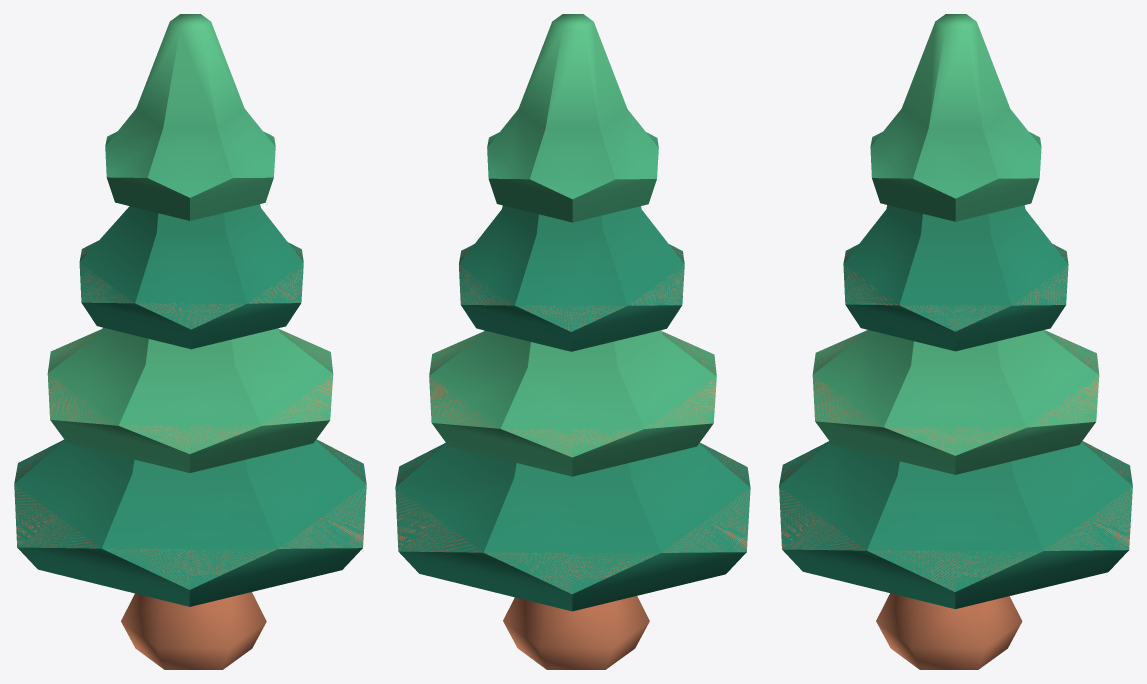
Rendered from pine.001_lev3.glb.
3 views of the same model, side by side, from view 1: azimuth 30°, elevation 25°; view 2: azimuth 150°, elevation 25°; view 3: azimuth 270°, elevation 25° (orthographic).
Parts seen in each view (by area): view 1: pine.001_lev3; view 2: pine.001_lev3; view 3: pine.001_lev3.
Boxes of the visible parts, bbox=[...] form: pine.001_lev3: bbox=[14, 14, 366, 669]; pine.001_lev3: bbox=[395, 14, 750, 669]; pine.001_lev3: bbox=[779, 14, 1132, 669].
Bounding box in the file's own units: 8.61 × 14.85 × 7.6.
1 material, 1 textured.
